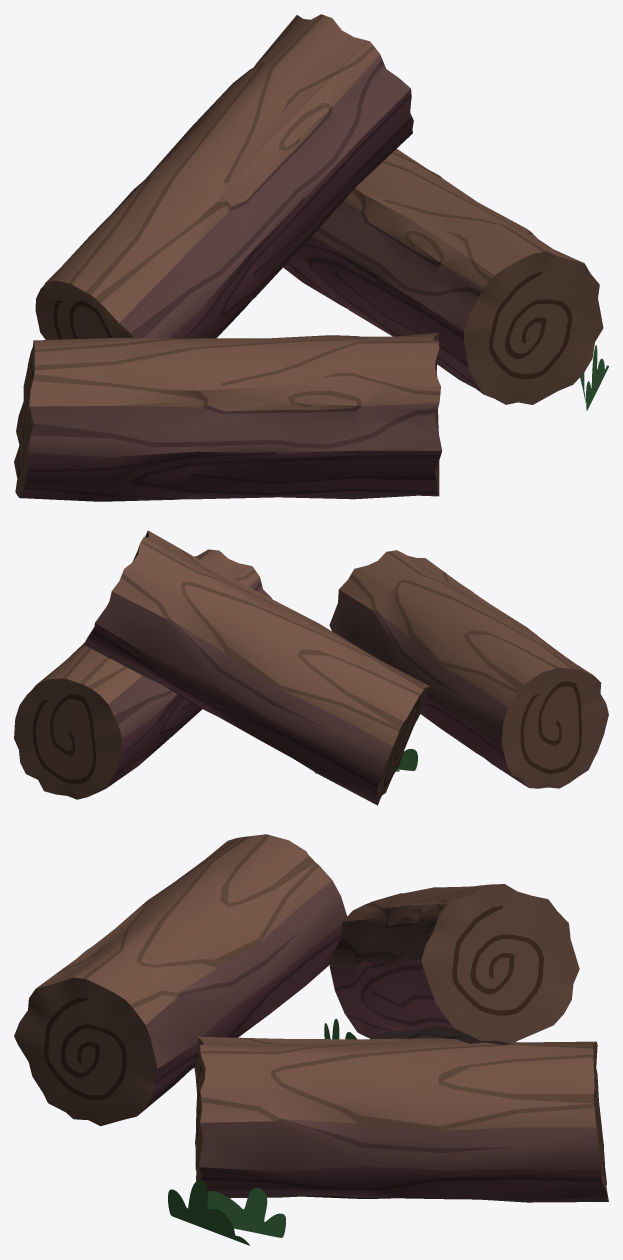
Rendered from wooden_logs.obj.
3 views of the same model, one above another, from view 1: azimuth 30°, elevation 25°; view 2: azimuth 150°, elevation 25°; view 3: azimuth 270°, elevation 25° (orthographic). The views are drawn at different scales.
Parts seen in each view (by area): view 1: Wooden_Logs_Cylinder; view 2: Wooden_Logs_Cylinder; view 3: Wooden_Logs_Cylinder.
Boxes of the visible parts, box(x1,y1,x2,y2) form: Wooden_Logs_Cylinder: box(14, 14, 608, 501); Wooden_Logs_Cylinder: box(14, 530, 608, 805); Wooden_Logs_Cylinder: box(14, 834, 608, 1245).
Bounding box in the file's own units: 6.74 × 3.19 × 5.94.
Materials: 1 (1 with a texture image).
